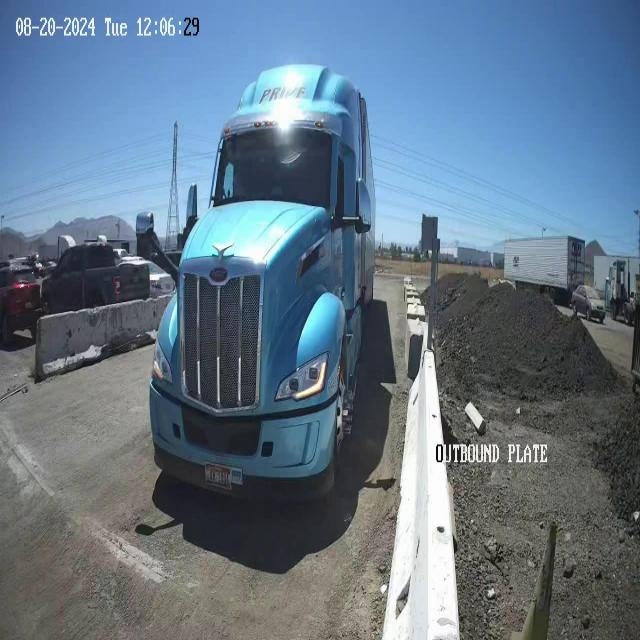TRUCK_OUT: (144, 62, 376, 504)
